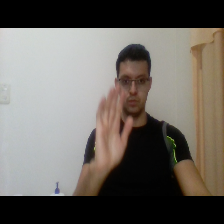left: (92, 81, 139, 173)
